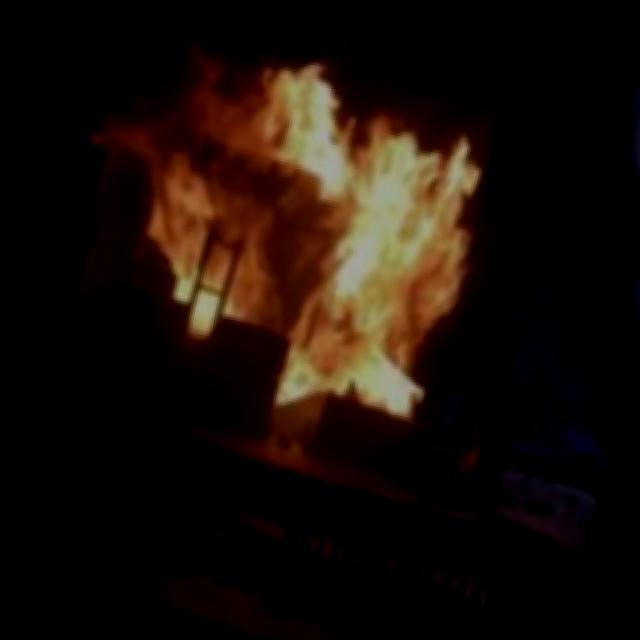fire: (57, 0, 536, 447)
